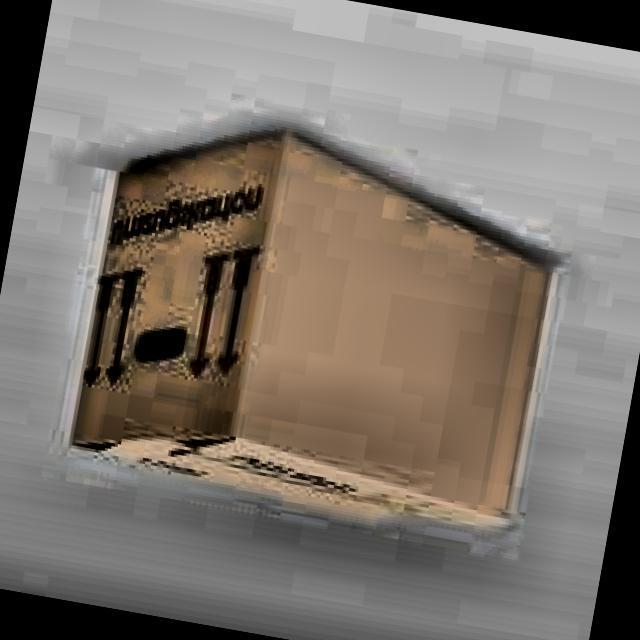cardboard: (55, 100, 572, 546)
